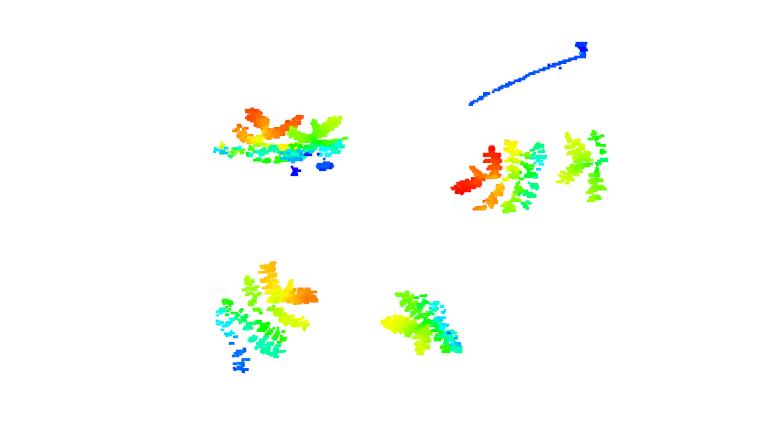chickpea: (212, 258, 322, 375), (448, 138, 548, 216), (210, 106, 304, 168), (379, 290, 463, 358), (554, 126, 614, 203), (288, 113, 353, 174)
